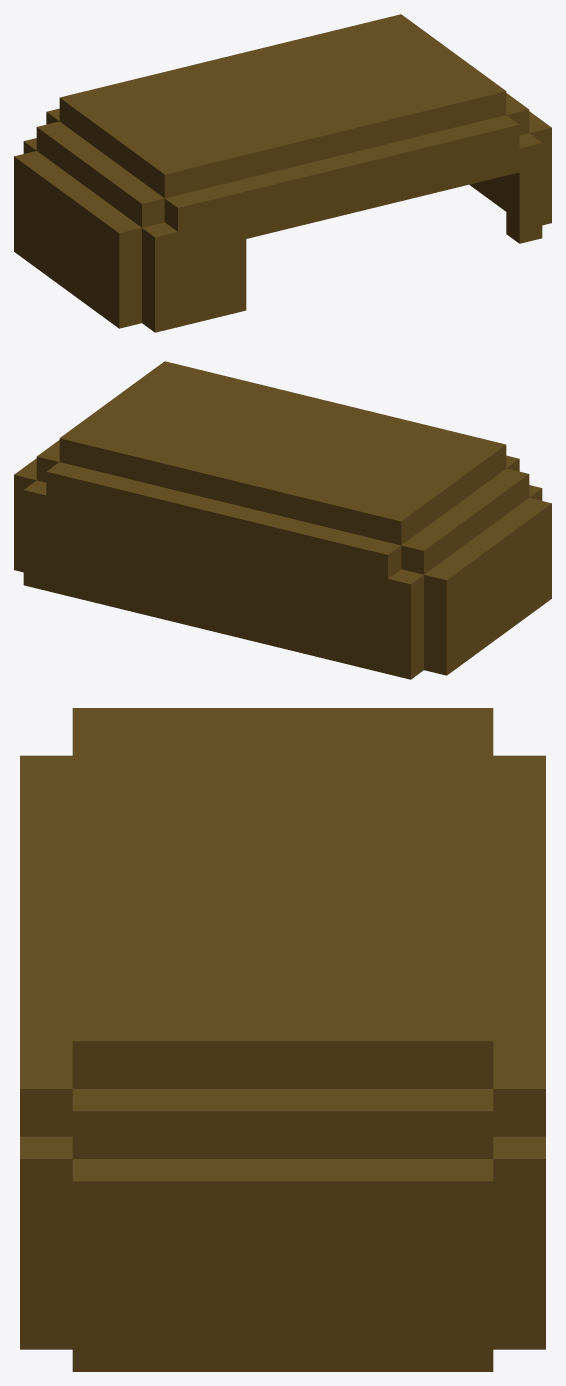
File: accessories_head_morty.glb
3 renders of one model, top to bottom at view 1: azimuth 30°, elevation 25°; view 2: azimuth 150°, elevation 25°; view 3: azimuth 270°, elevation 25°, orthographic. The views are drawn at different scales.
Parts seen in each view (by area): view 1: model_0; view 2: model_0; view 3: model_0.
Boxes of the visible parts, box(x1,y1,x2,y2) form: model_0: box(14, 14, 551, 332); model_0: box(14, 361, 551, 679); model_0: box(20, 708, 545, 1371).
Bounding box in the file's own units: 19 × 6 × 10.
